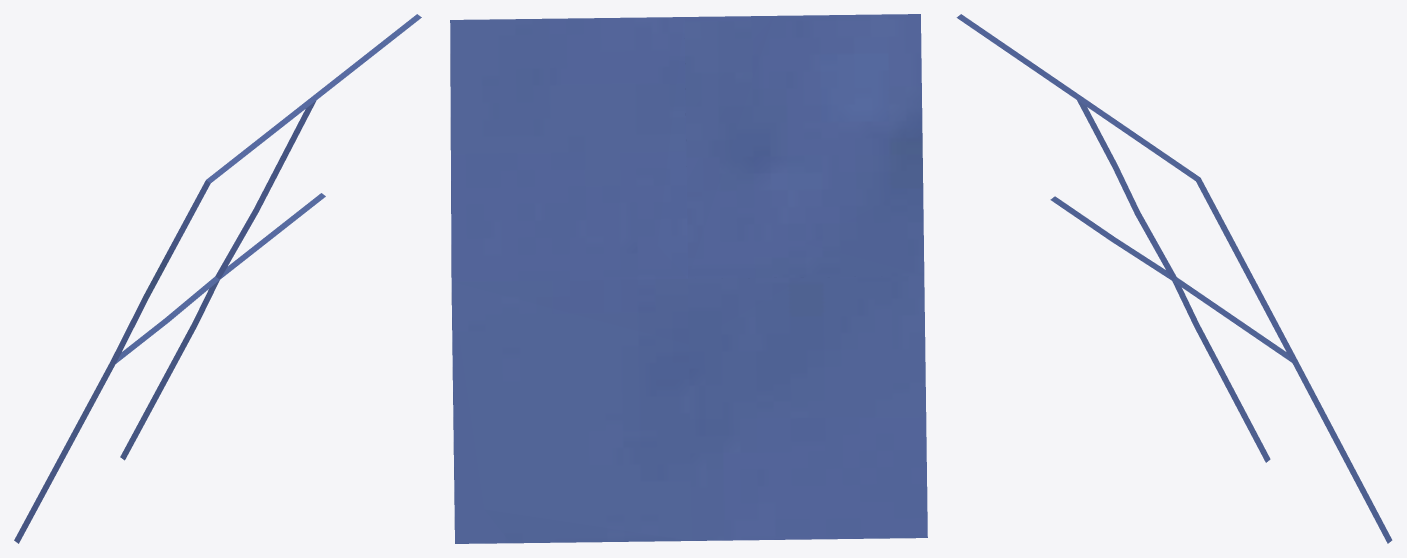
The picture shows the model from 3 angles, left to right: view 1: azimuth 30°, elevation 25°; view 2: azimuth 150°, elevation 25°; view 3: azimuth 270°, elevation 25°; orthographic projection. The views are drawn at different scales.
Bounding box in the file's own units: 19624 × 17722 × 16872.
1 material, 1 textured.
